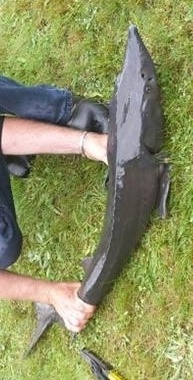Acipenseridae: (20, 20, 173, 360)
